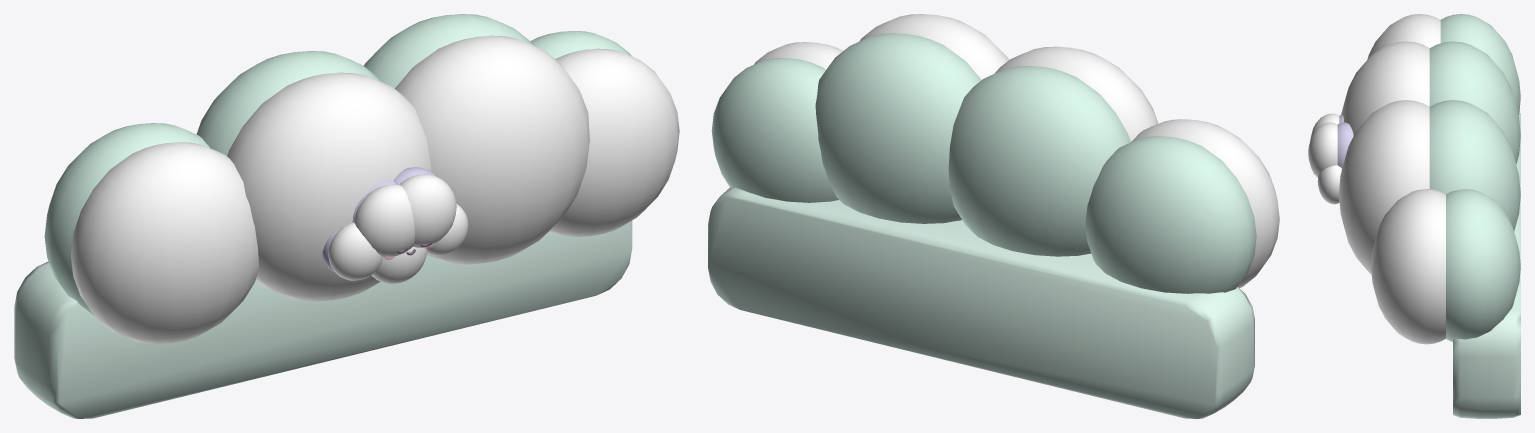
Rendered from decor_1_mint.glb.
The picture shows the model from 3 angles, left to right: view 1: azimuth 30°, elevation 25°; view 2: azimuth 150°, elevation 25°; view 3: azimuth 270°, elevation 25°; orthographic projection. The views are drawn at different scales.
Parts seen in each view (by area): view 1: decor_1_mint; view 2: decor_1_mint; view 3: decor_1_mint.
Part boxes in pixels (bbox=[...]): decor_1_mint: bbox=[14, 14, 679, 418]; decor_1_mint: bbox=[708, 14, 1279, 418]; decor_1_mint: bbox=[1308, 14, 1520, 418].
Size of the model in its own units: 19.94 by 9.94 by 7.66.
